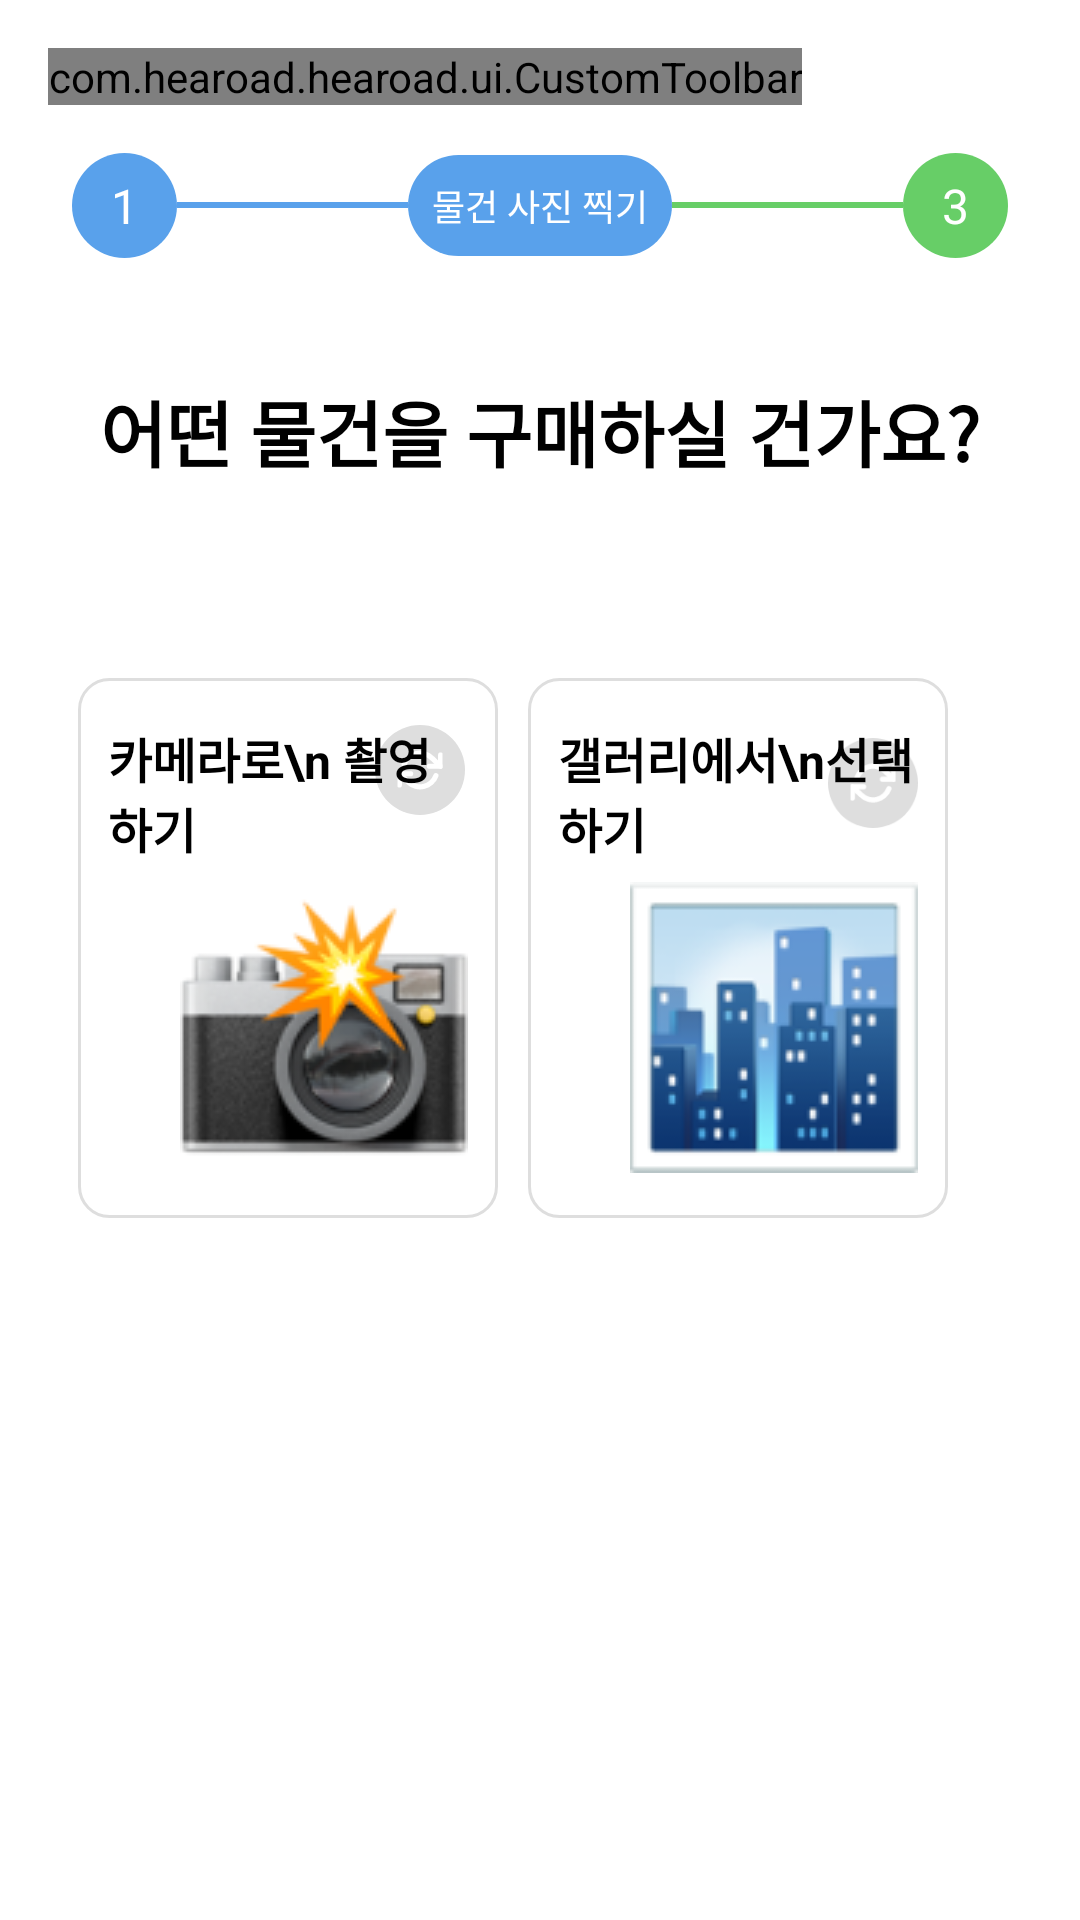

Screen size 1080 × 1920. Icon name, then its box in pixels as (x1, y1, x2, y2):
camera: (180, 902, 468, 1153)
gallery: (630, 885, 918, 1173)
